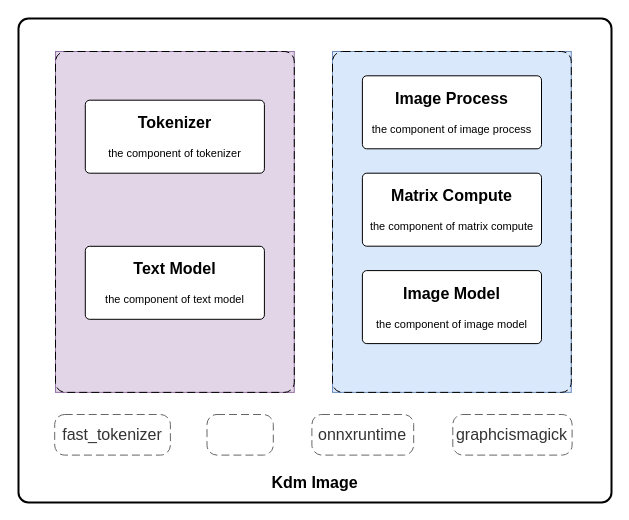
This 629x520 diagram has some shape labels left out. The shapes that lost their labels are listed below. From the top down, each one's box as (x1, y1, x2, y2) in pixels, then its label:
(54, 50, 294, 392): Embedding Text
(332, 50, 571, 392): Embedding Image
(206, 414, 273, 455): eigen
